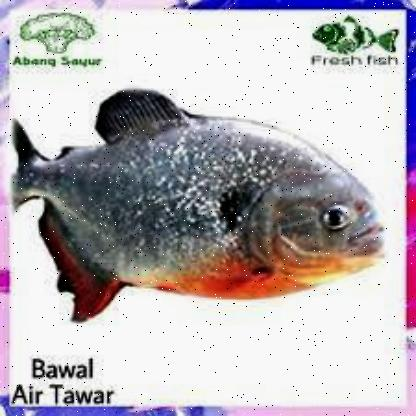ikan-pacu: (24, 97, 380, 309)
